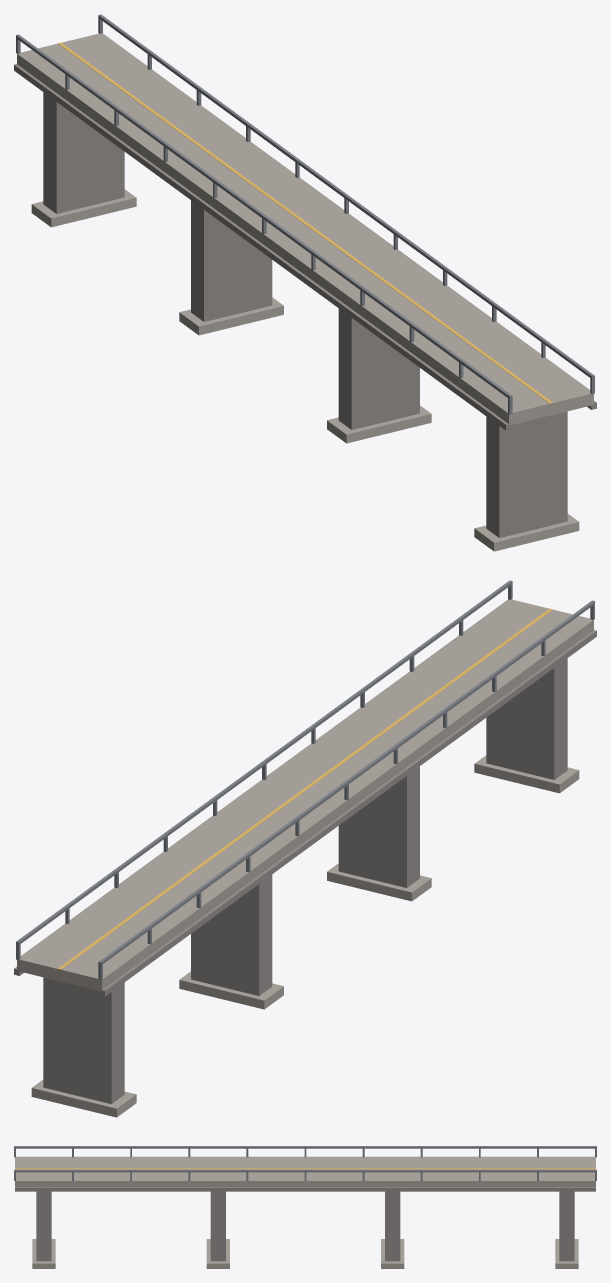
Rendered from bridge_deck_30m_v2.glb.
3 renders of one model, top to bottom at view 1: azimuth 30°, elevation 25°; view 2: azimuth 150°, elevation 25°; view 3: azimuth 270°, elevation 25°, orthographic. The views are drawn at different scales.
Visible parts, largest first — view 1: bridge_deck_30m; view 2: bridge_deck_30m; view 3: bridge_deck_30m.
Part boxes in pixels (box(x1,y1,x2,y2)): bridge_deck_30m: box(14, 14, 596, 551); bridge_deck_30m: box(14, 580, 596, 1117); bridge_deck_30m: box(14, 1146, 596, 1268).
Size of the model in its own units: 3.2 by 5.6 by 30.1.
